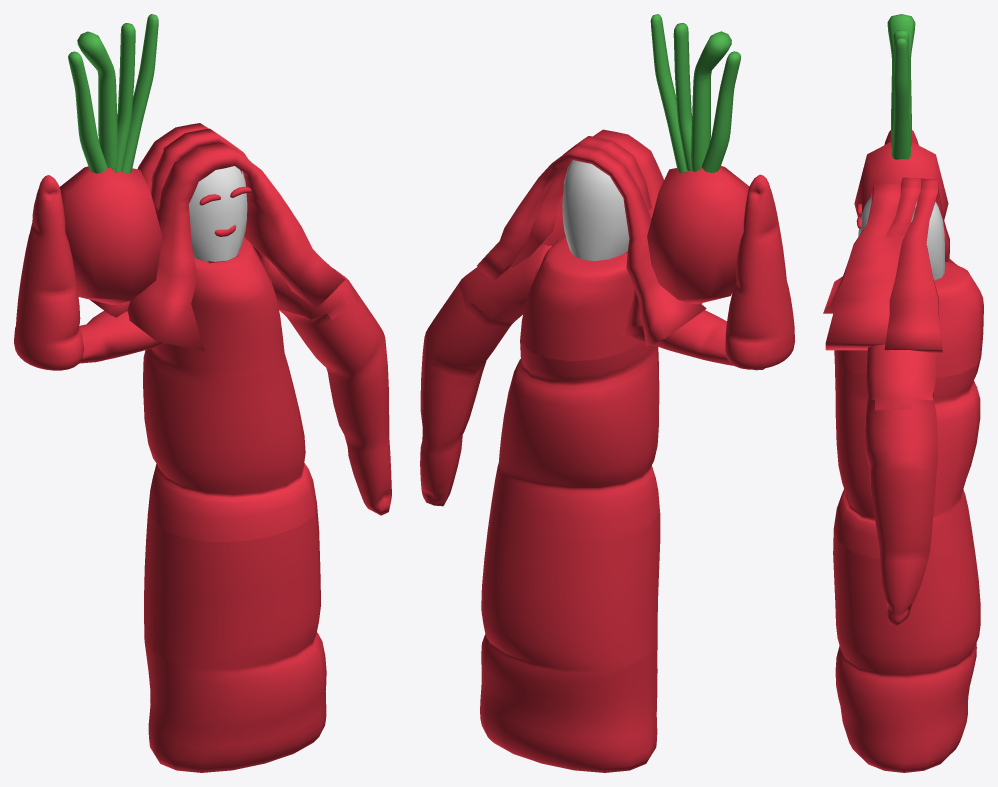
The model's file is florDePina.glb.
The picture shows the model from 3 angles, left to right: view 1: azimuth 30°, elevation 25°; view 2: azimuth 150°, elevation 25°; view 3: azimuth 270°, elevation 25°; orthographic projection. The views are drawn at different scales.
Visible parts, largest first — view 1: FlorDePinaTop, FlorDePinaBottom, FlorDePinaMid; view 2: FlorDePinaTop, FlorDePinaBottom, FlorDePinaMid; view 3: FlorDePinaTop, FlorDePinaBottom, FlorDePinaMid.
Part boxes in pixels (x1,y1,x2,y2): FlorDePinaTop: [14, 14, 358, 370]; FlorDePinaBottom: [144, 503, 326, 772]; FlorDePinaMid: [143, 292, 391, 541]; FlorDePinaTop: [459, 14, 794, 370]; FlorDePinaBottom: [480, 503, 660, 772]; FlorDePinaMid: [420, 283, 659, 541]; FlorDePinaTop: [823, 14, 983, 410]; FlorDePinaBottom: [833, 529, 980, 772]; FlorDePinaMid: [833, 356, 980, 625].
Size of the model in its own units: 1.36 by 2.67 by 0.5804.
